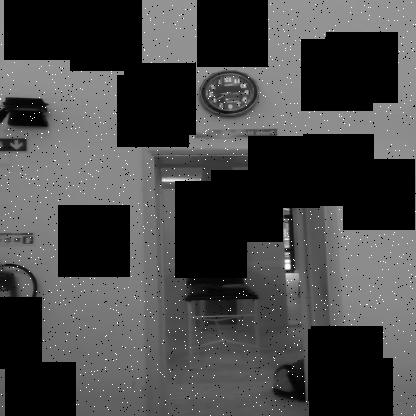Porte: (144, 147, 349, 415)
